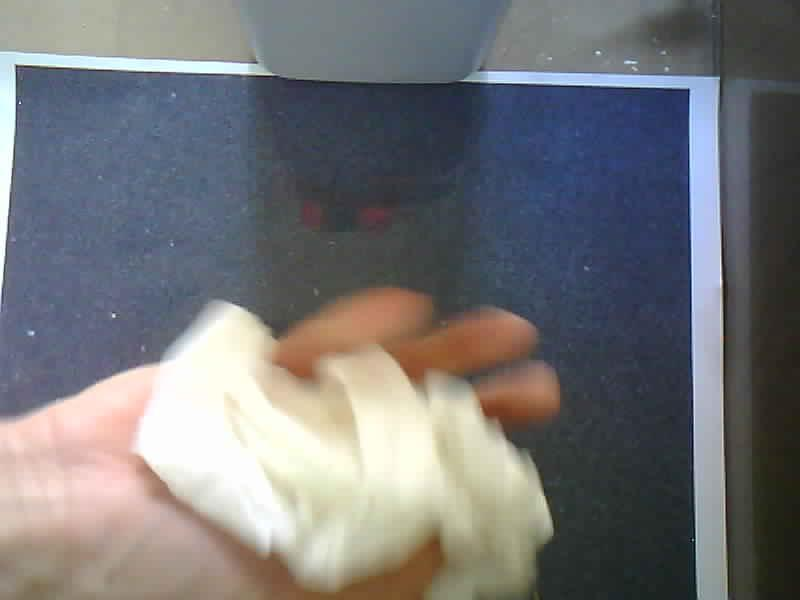paper: (134, 298, 553, 600)
